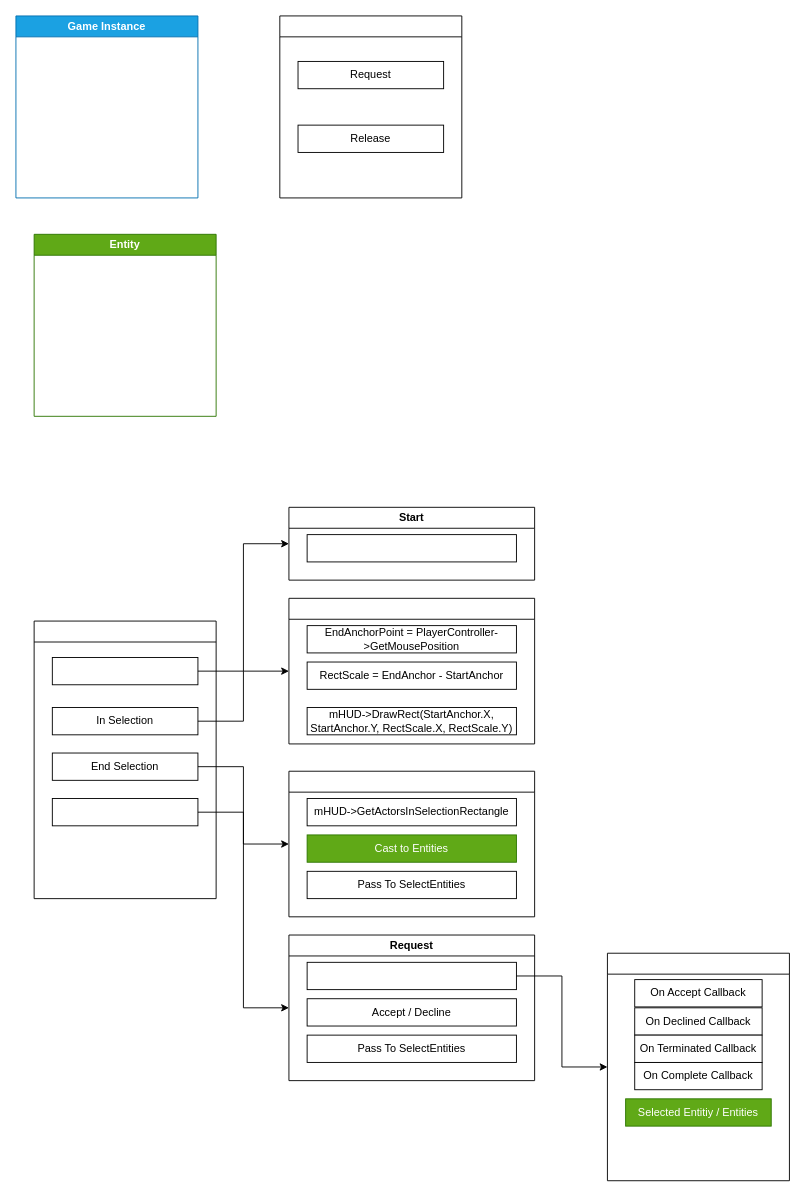
Image size: 805x1197. Some labels were removed from this diagram. The box of each missing label's shape, as (x1, y1, x2, y2) in pixels:
End: (288, 770, 535, 917)
Incoming Request: (306, 961, 516, 990)
Input: (279, 15, 462, 198)
RequestSelection: (51, 798, 198, 826)
Select Entities: (33, 620, 216, 899)
Selection Request: (607, 952, 789, 1181)
Start Selection: (51, 657, 198, 685)
StartAnchorPoint = PlayerController->GetMousePosition: (306, 534, 516, 562)
While: (288, 597, 535, 744)
